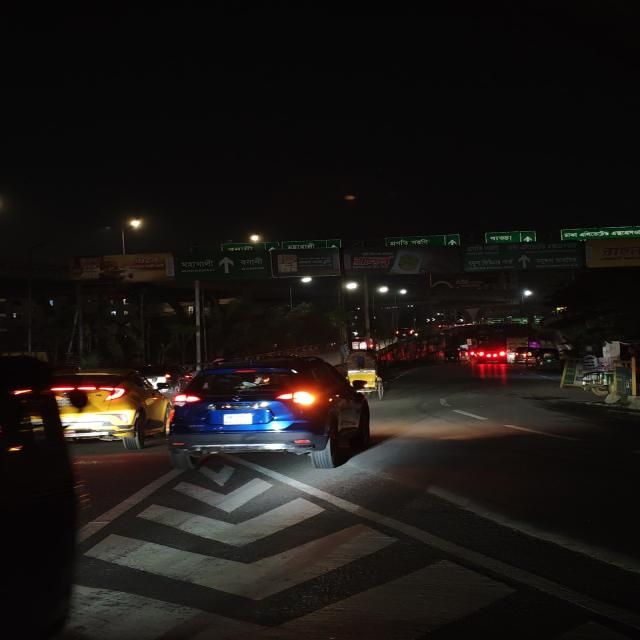bus: (471, 331, 514, 363)
car: (165, 354, 374, 468), (50, 368, 164, 448)
cng: (538, 347, 561, 368), (442, 350, 462, 364)
rickshaw: (342, 350, 392, 399)
